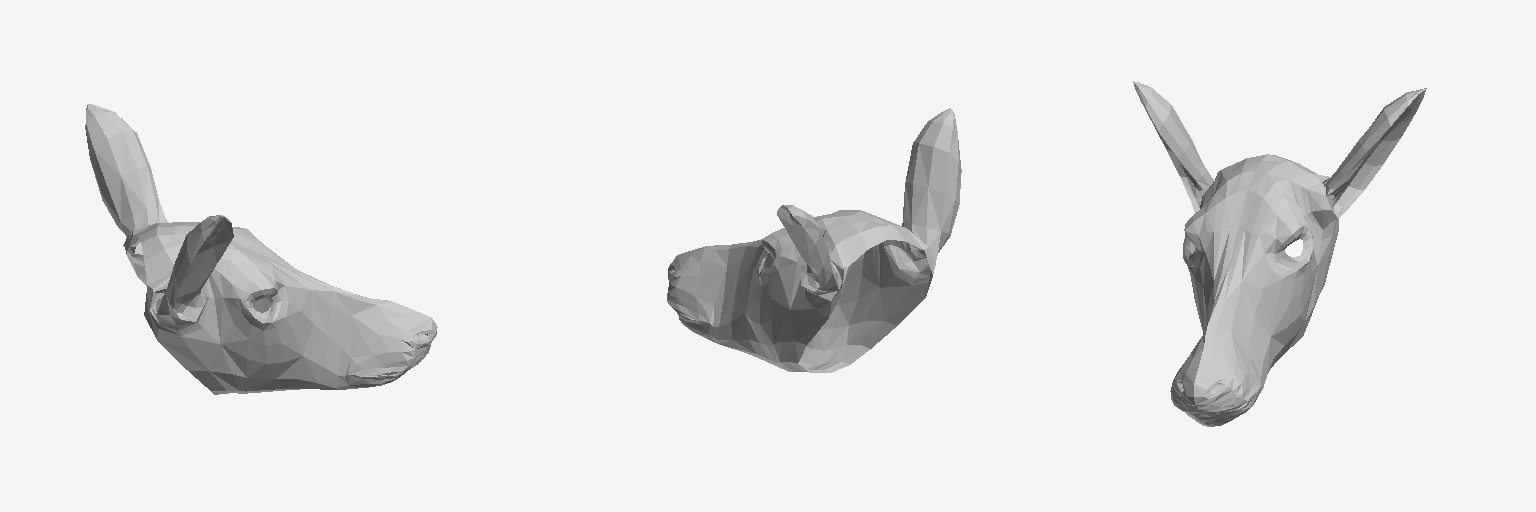
The model's file is CiervoBebeCabeza.obj.
The picture shows the model from 3 angles: view 1: azimuth 30°, elevation 25°; view 2: azimuth 150°, elevation 25°; view 3: azimuth 270°, elevation 25°; orthographic projection.
Visible parts, largest first — view 1: Head_head.001; view 2: Head_head.001; view 3: Head_head.001.
Boxes of the visible parts, x1,y1,x2,y2 form: Head_head.001: [85, 104, 437, 394]; Head_head.001: [667, 108, 961, 372]; Head_head.001: [1133, 81, 1426, 426].
Bounding box in the file's own units: 0.8994 × 0.7559 × 0.8258.